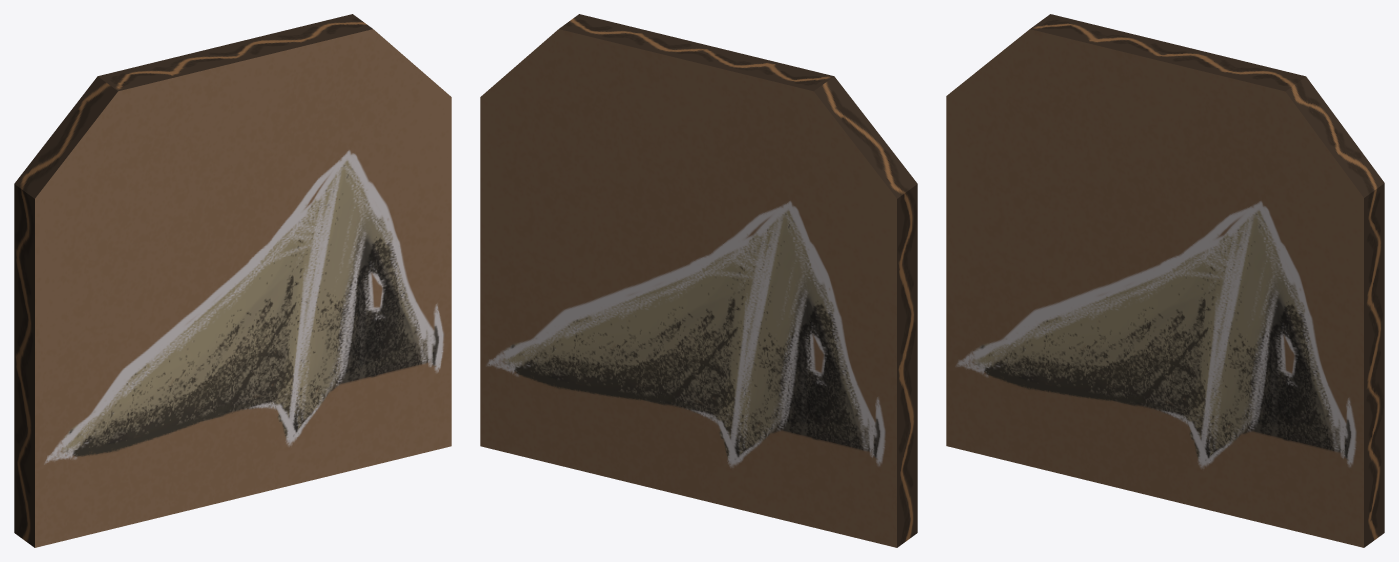
File: TentBox.fbx
3 renders of one model, left to right at view 1: azimuth 30°, elevation 25°; view 2: azimuth 150°, elevation 25°; view 3: azimuth 330°, elevation 25°, orthographic.
Parts seen in each view (by area): view 1: tent; view 2: tent; view 3: tent.
Boxes of the visible parts, left/top/right/bottom form: tent: left=14, top=14, right=451, bottom=547; tent: left=480, top=14, right=917, bottom=547; tent: left=946, top=14, right=1384, bottom=547.
Bounding box in the file's own units: 4 × 4 × 0.3423.
